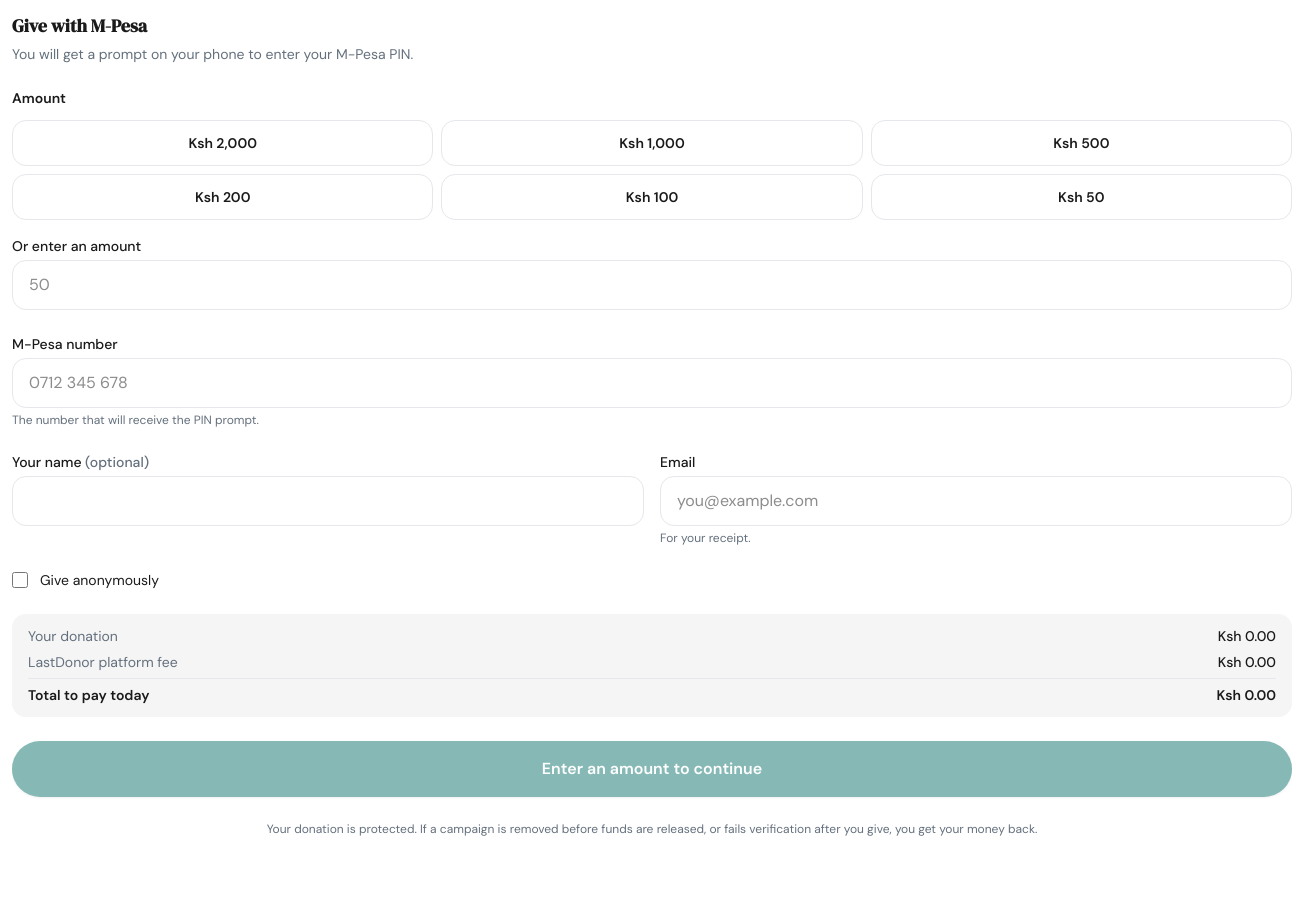
Test case: outcomes › does not assert a single cause on failure
The image size is (1304, 912).
Type "0713572703" into the field labelled "M-Pesa number".
click(652, 383); type("0713572703")  # box [12, 358, 1292, 408]
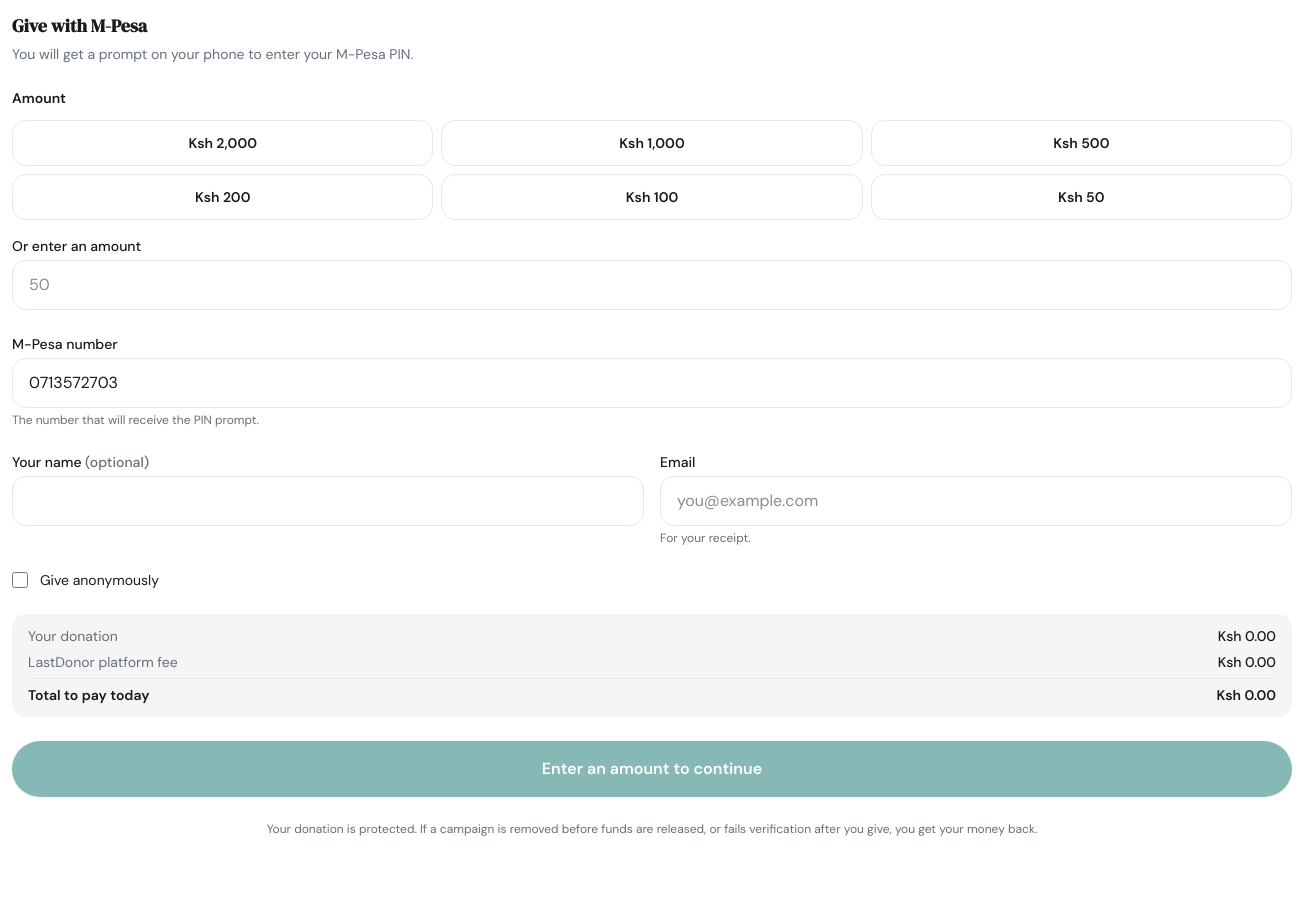
Type "donor@example.com" into the field labelled "Email".
click(976, 501); type("donor@example.com")  # box [660, 476, 1292, 526]
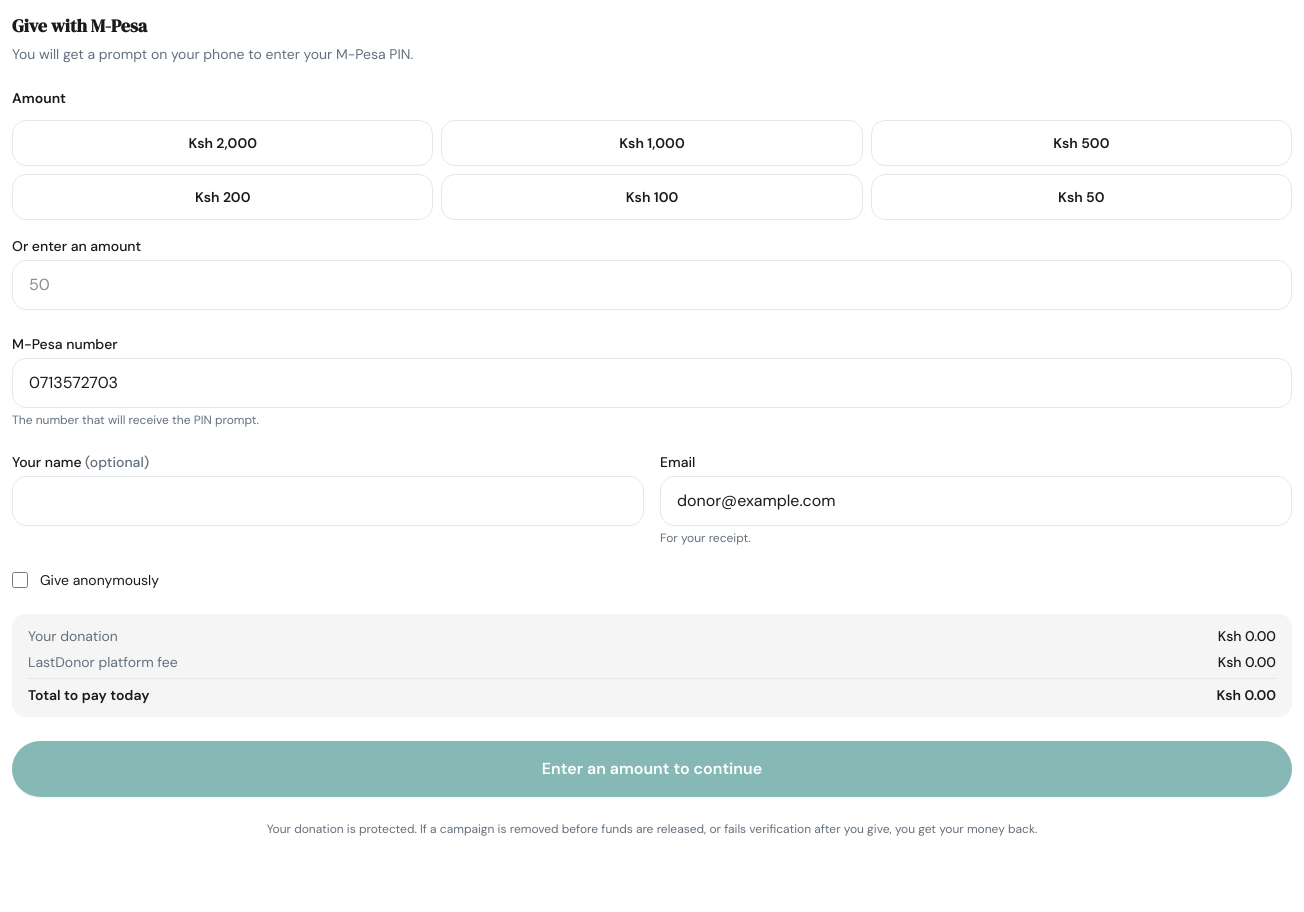
Click the button "Ksh 50".
click(1081, 197)  # box [871, 174, 1292, 220]
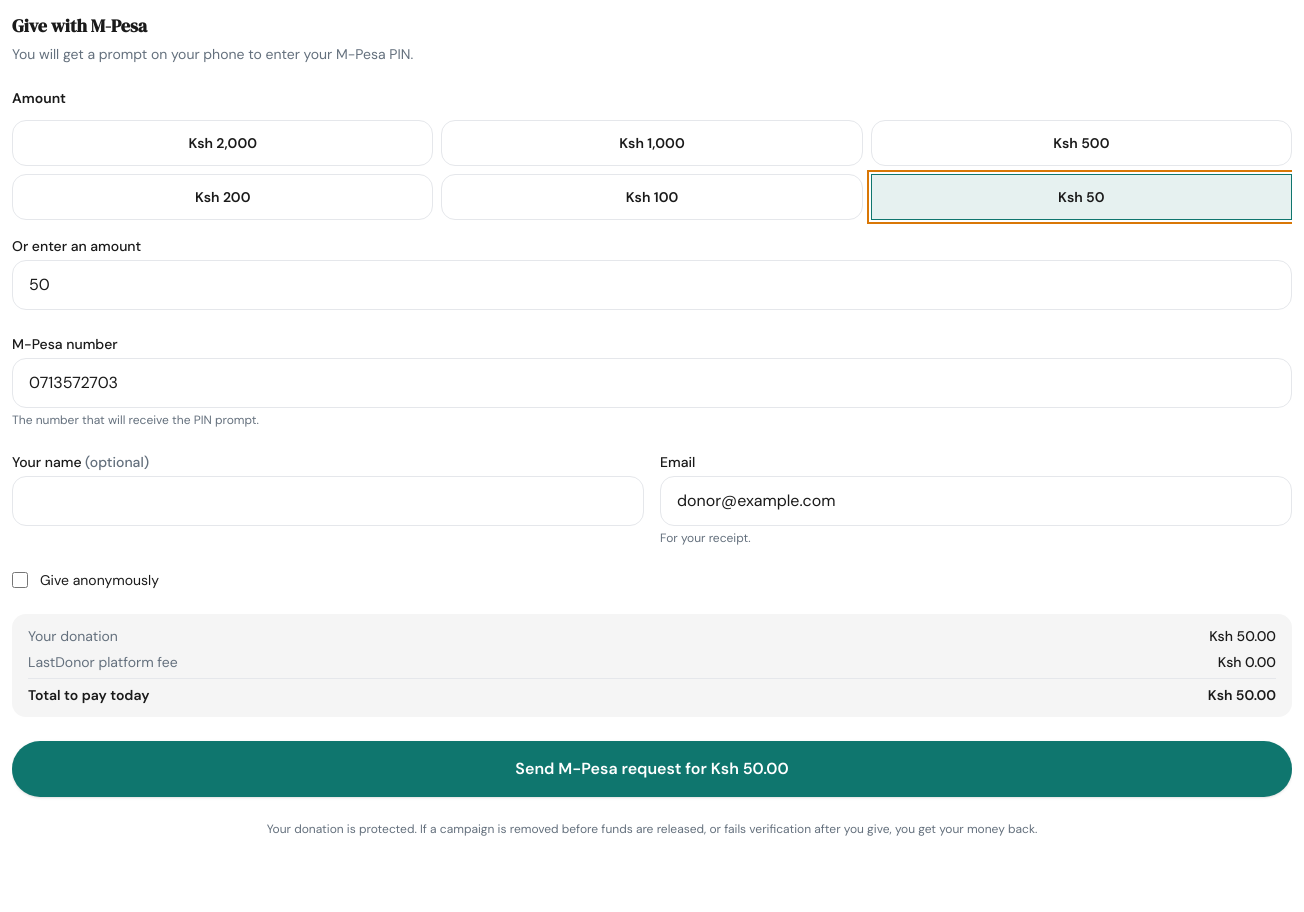
Click the button "Send M-Pesa request for Ksh 50.00".
click(652, 769)  # box [12, 741, 1292, 797]
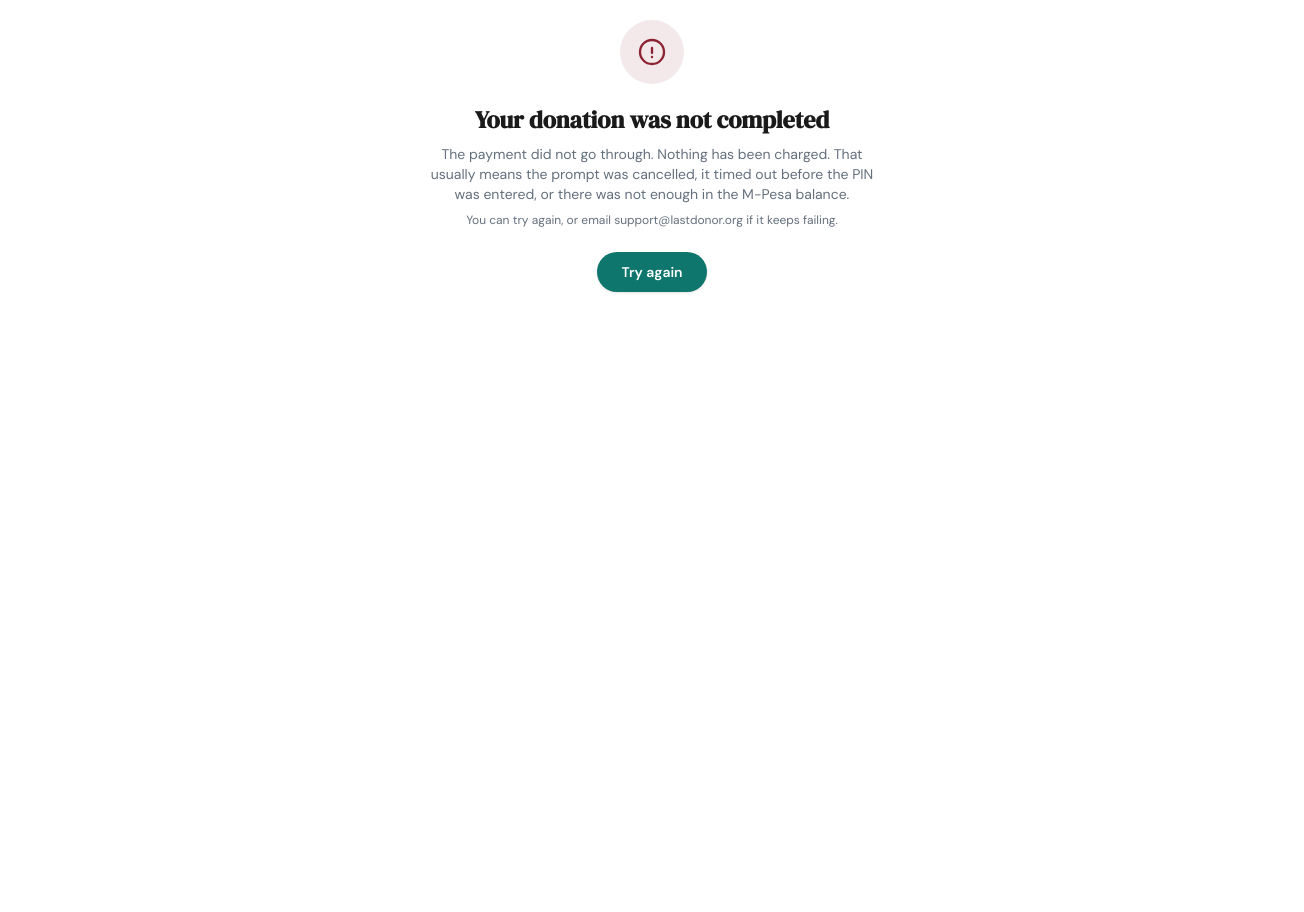
expect the message is shown: met, box [431, 20, 873, 292]
expect the message shows "nothing has been charged": met, box [442, 145, 830, 163]
expect the message shows "usually means": met, box [431, 145, 873, 203]
